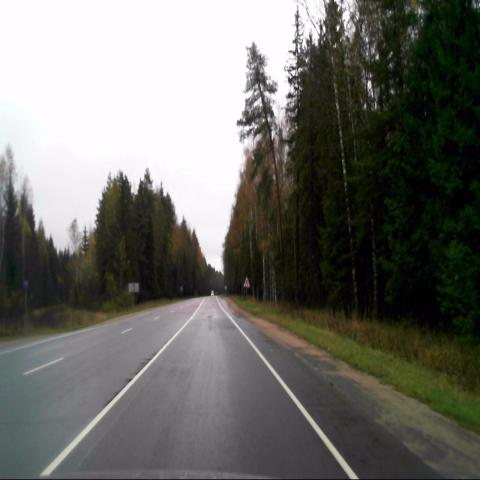1_20: (243, 275, 251, 289)
